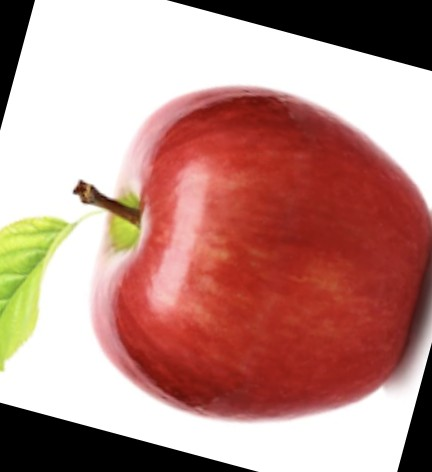fresh_apple: (90, 85, 432, 425)
